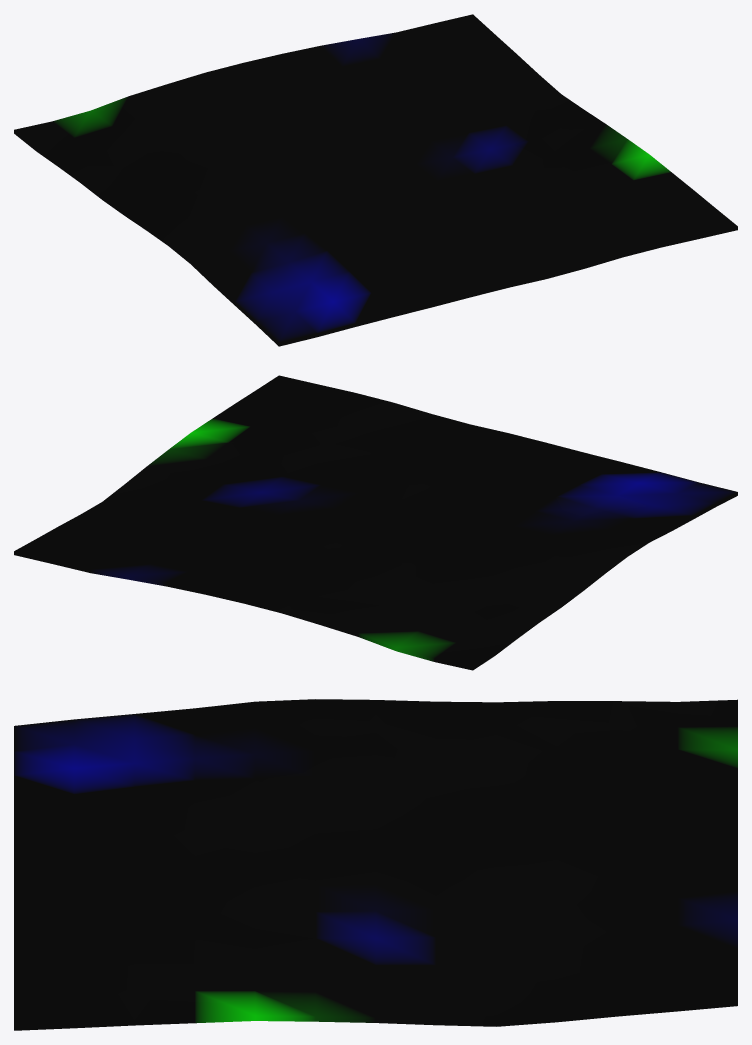
File: coast_11_3.glb
3 renders of one model, top to bottom at view 1: azimuth 30°, elevation 25°; view 2: azimuth 150°, elevation 25°; view 3: azimuth 270°, elevation 25°, orthographic. The views are drawn at different scales.
Visible parts, largest first — view 1: terrain; view 2: terrain; view 3: terrain.
Boxes of the visible parts, x1,y1,x2,y2 form: terrain: (14, 14, 737, 346); terrain: (14, 375, 737, 670); terrain: (14, 699, 737, 1030).
Size of the model in its own units: 192 by 13.55 by 192.
